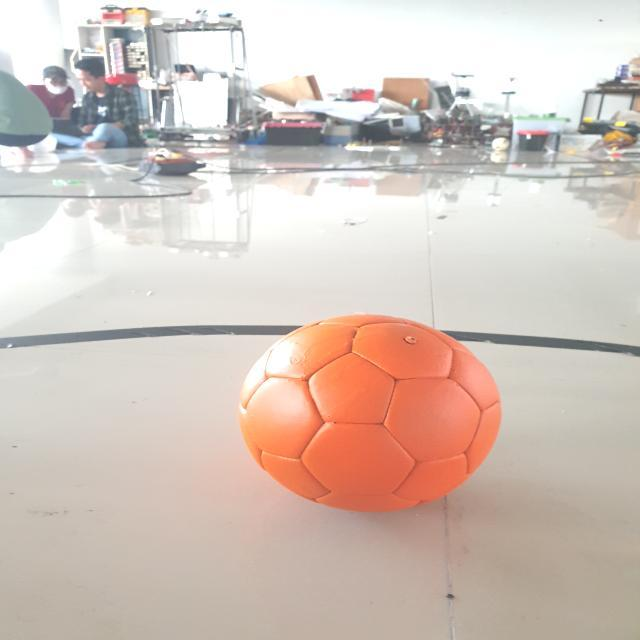bola: (230, 306, 509, 517)
